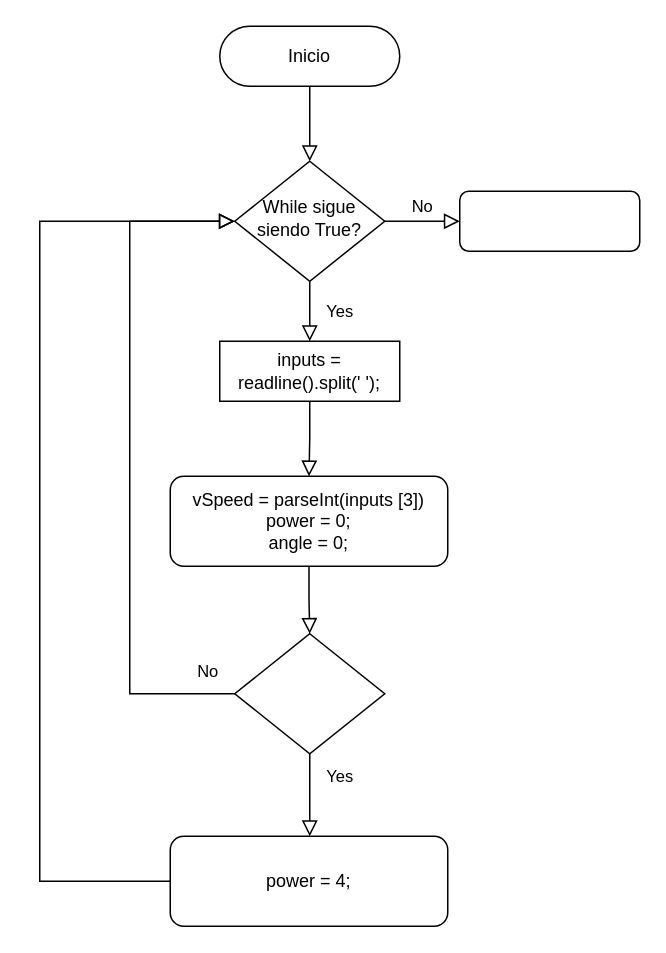
The diagram is 666 pixels wide and 953 high, and some of its shapes have lost their labels. The shapes that lost their labels are listed below. From the top down, each one's box as (x1, y1, x2, y2) in pixels, then its label:
(458, 190, 640, 251): Fin
(233, 632, 385, 754): vSpeed <= -40?
